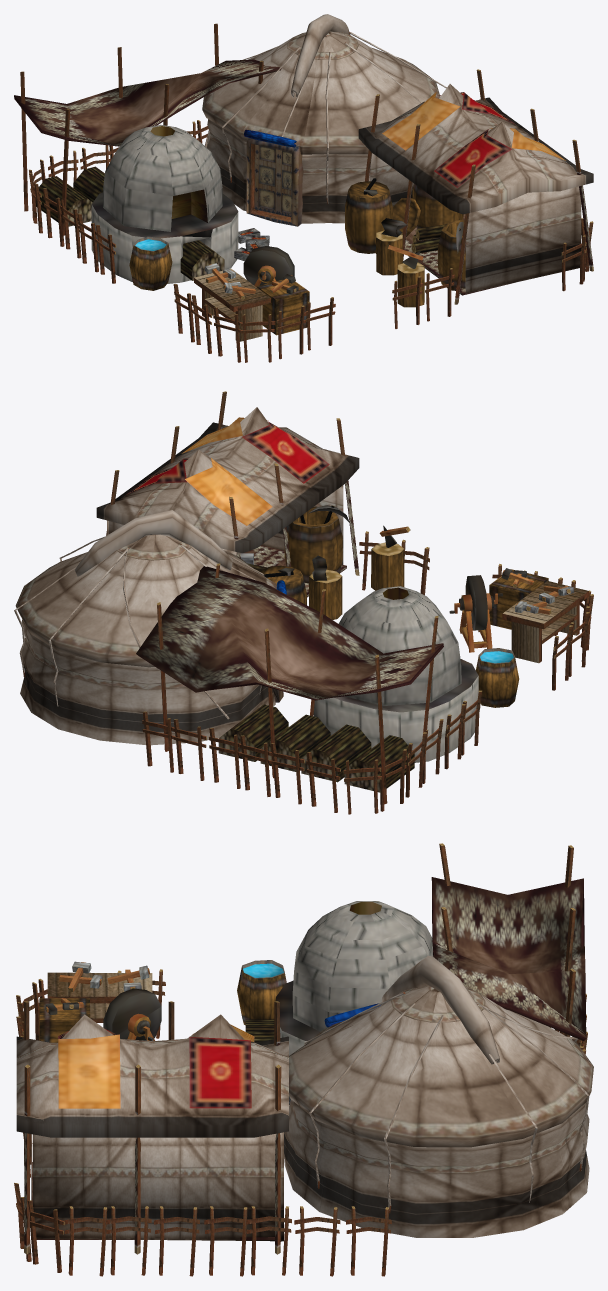
The model's file is forge.dae.
3 renders of one model, top to bottom at view 1: azimuth 30°, elevation 25°; view 2: azimuth 150°, elevation 25°; view 3: azimuth 270°, elevation 25°, orthographic. The views are drawn at different scales.
Visible parts, largest first — view 1: forge; view 2: forge; view 3: forge.
Part boxes in pixels (left/top/right/bottom): forge: left=14, top=14, right=593, bottom=362; forge: left=14, top=391, right=593, bottom=814; forge: left=14, top=843, right=593, bottom=1276.
Bounding box in the file's own units: 19.21 × 19.36 × 8.61.
